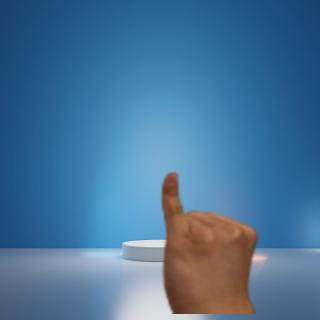FINE: (152, 170, 262, 309)
